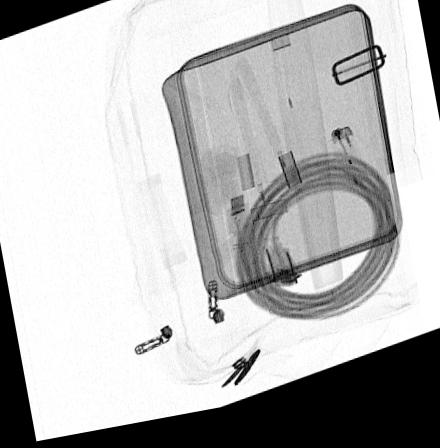Lighter: (325, 139, 373, 201)
